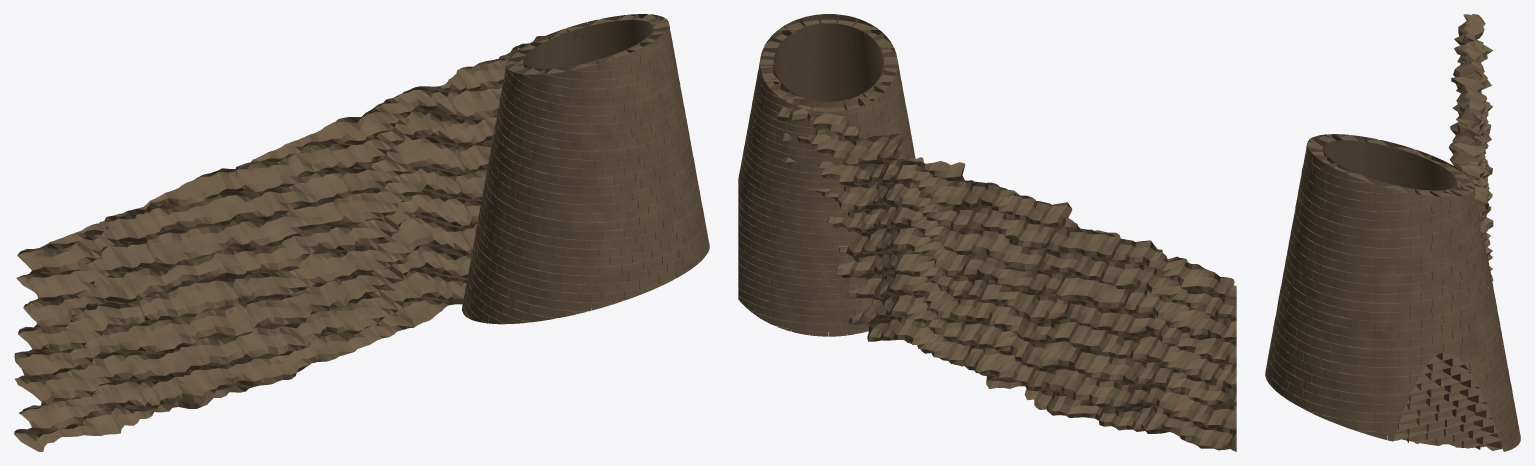
Rendered from temple06.glb.
3 views of the same model, side by side, from view 1: azimuth 30°, elevation 25°; view 2: azimuth 150°, elevation 25°; view 3: azimuth 270°, elevation 25° (orthographic). The views are drawn at different scales.
Parts seen in each view (by area): view 1: TEMPLE06_original_v5; view 2: TEMPLE06_original_v5; view 3: TEMPLE06_original_v5.
Boxes of the visible parts, x1,y1,x2,y2 form: TEMPLE06_original_v5: (14,14,709,451); TEMPLE06_original_v5: (738,14,1236,451); TEMPLE06_original_v5: (1265,14,1520,451).
Size of the model in its own units: 10.95 by 5.45 by 3.71.
